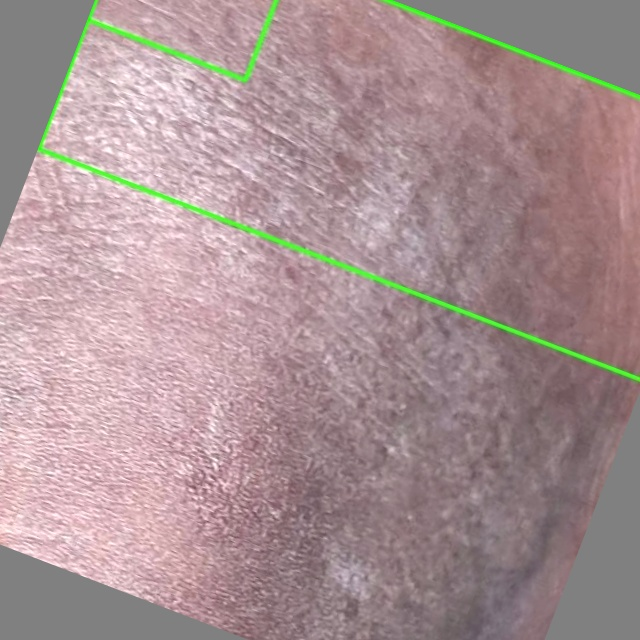Contact Dermatitis: (39, 0, 639, 378)
